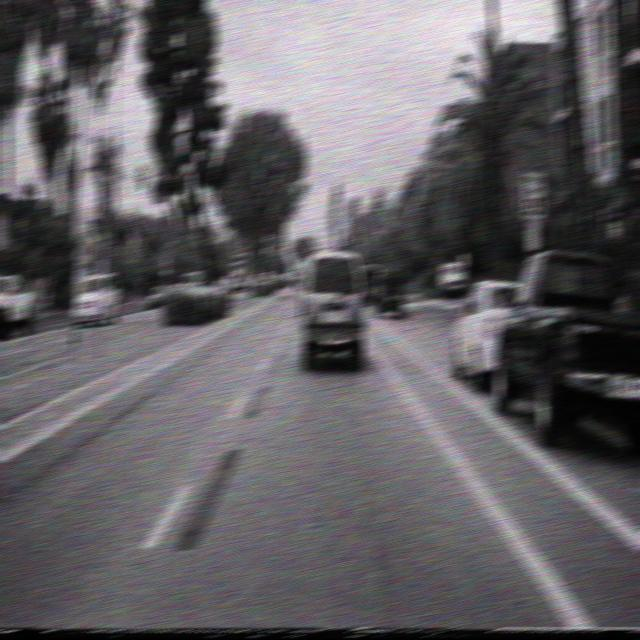speedLimit35: (520, 169, 546, 221)
